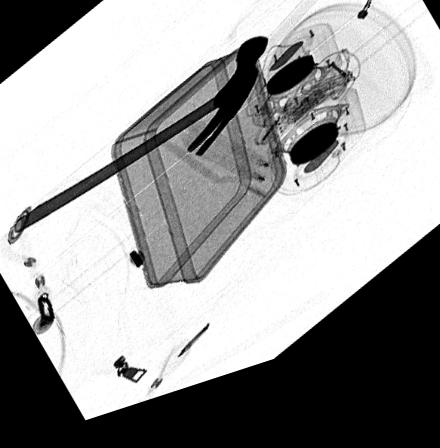Hammer: (11, 51, 267, 233)
